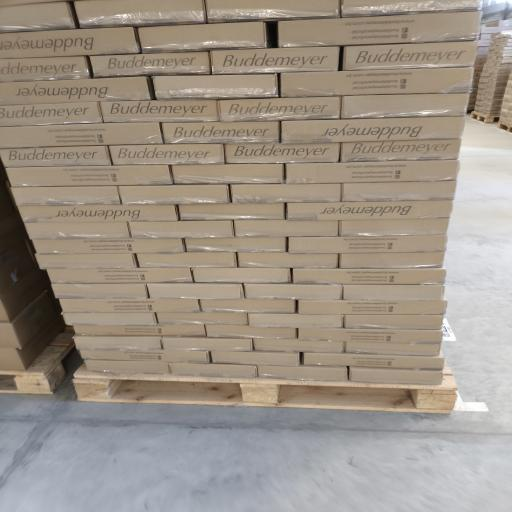pallet: (74, 365, 456, 413), (0, 332, 74, 394), (471, 112, 499, 123), (498, 121, 511, 132)
